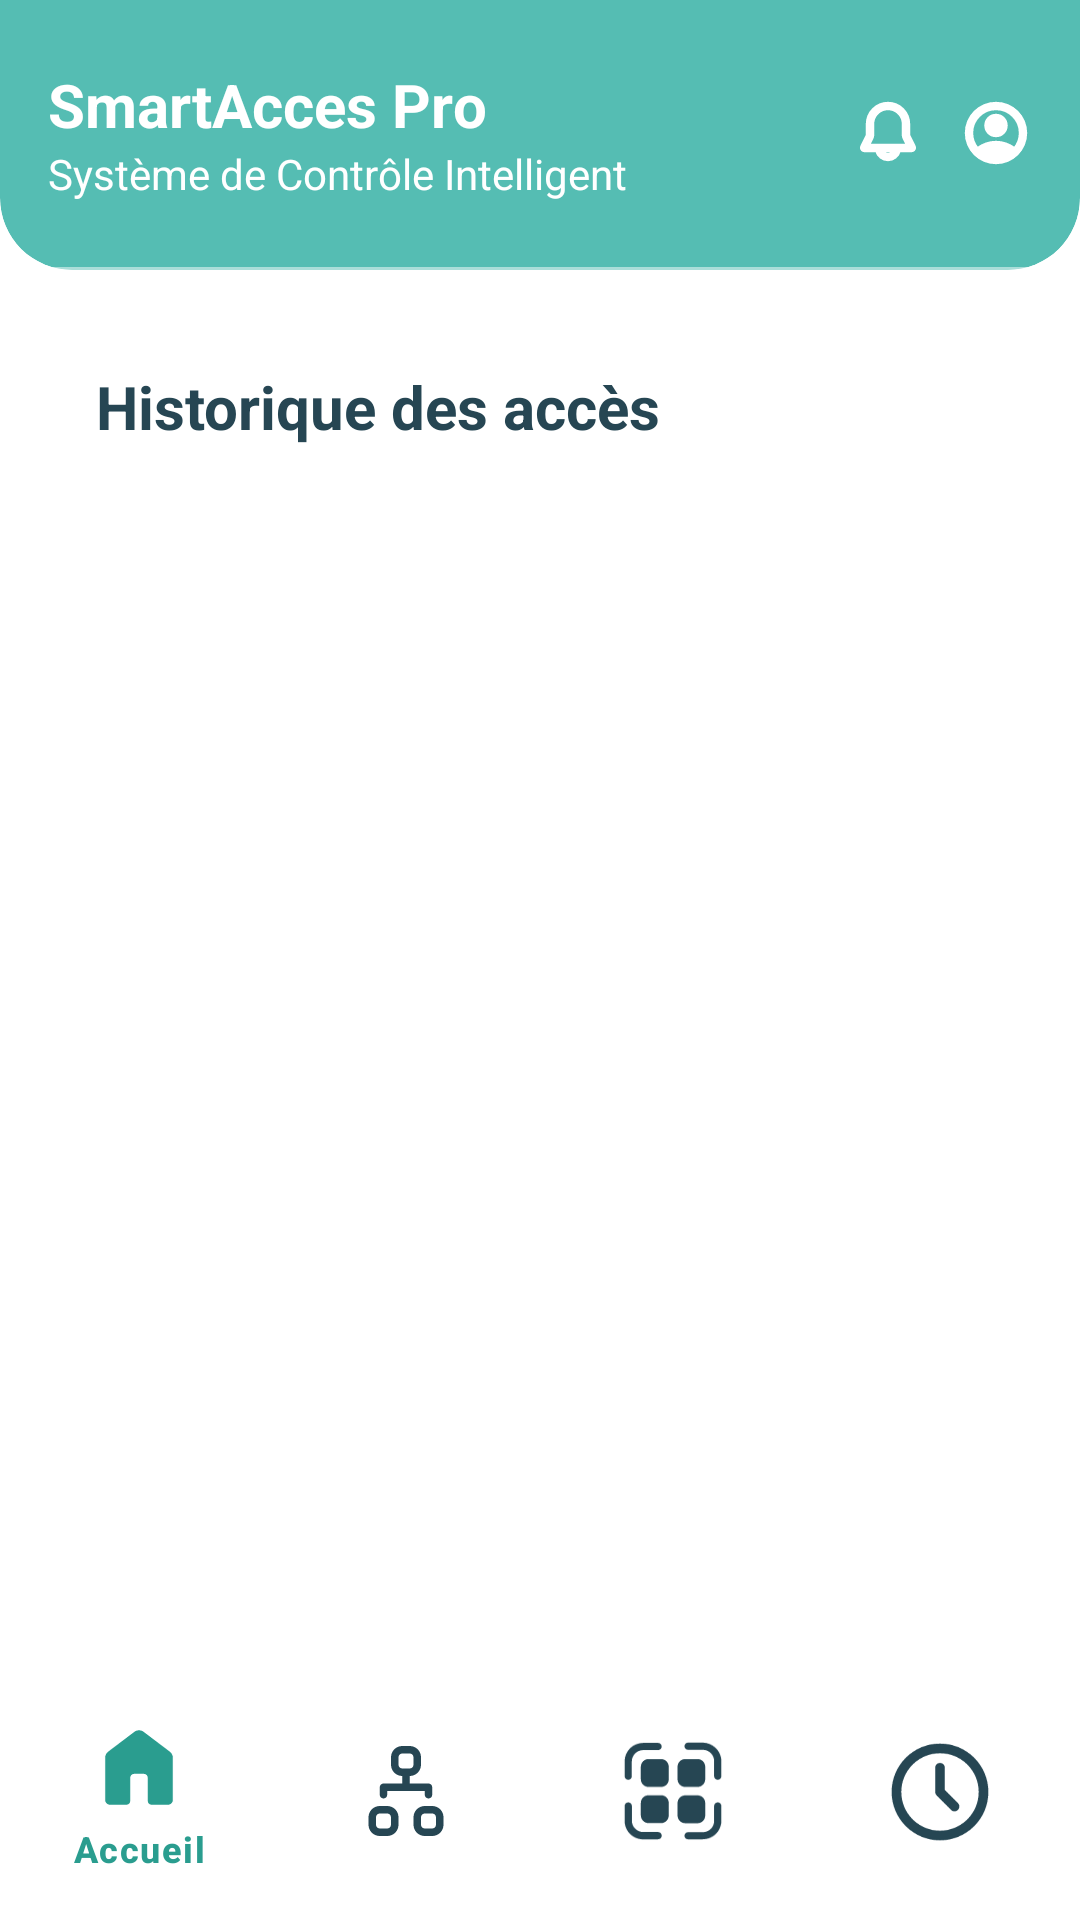

Icons on this 1080 × 1920 Android screen, each with its box as {"x1": x1, "y1": y1, "x2": x2, "y2": y2}:
notification: {"x1": 860, "y1": 101, "x2": 916, "y2": 161}
profile: {"x1": 964, "y1": 101, "x2": 1028, "y2": 165}
